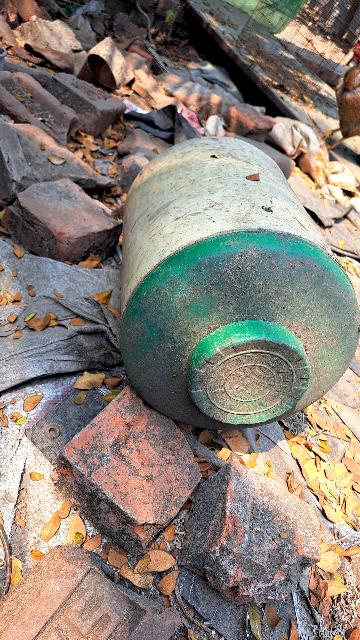hardplastic: (105, 127, 360, 434)
